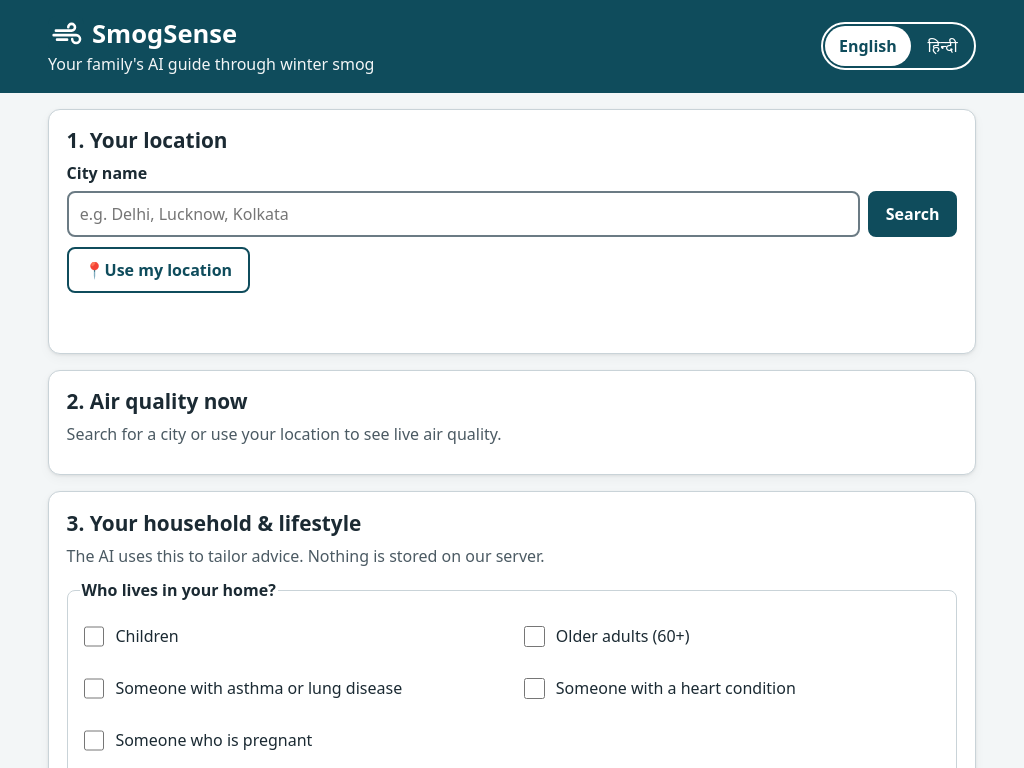
Test: App › shows plan errors (e.g. rate limiting)
This screenshot has width=1024, height=768.
Type "Delhi" into the field labelled "City name" at point(463, 214), box top-left (67, 191), bottom-right (860, 237)
Then press Enter
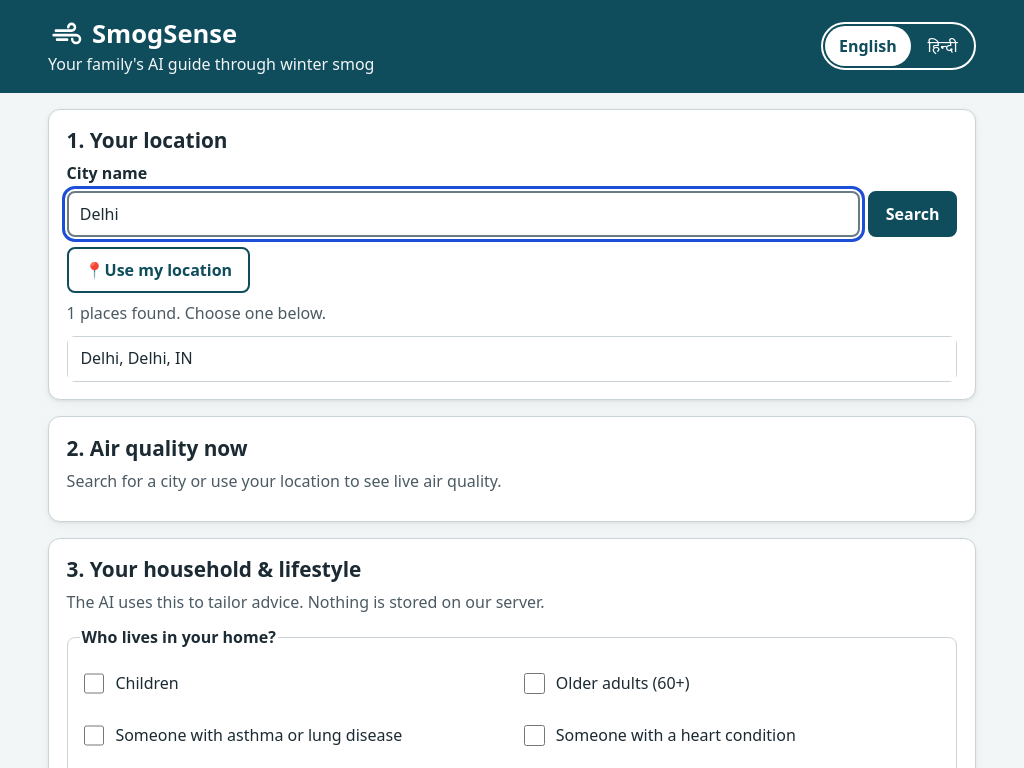
Click the button "Delhi, Delhi, IN" at point(136, 358), box top-left (68, 337), bottom-right (956, 381)
(page scrolled)
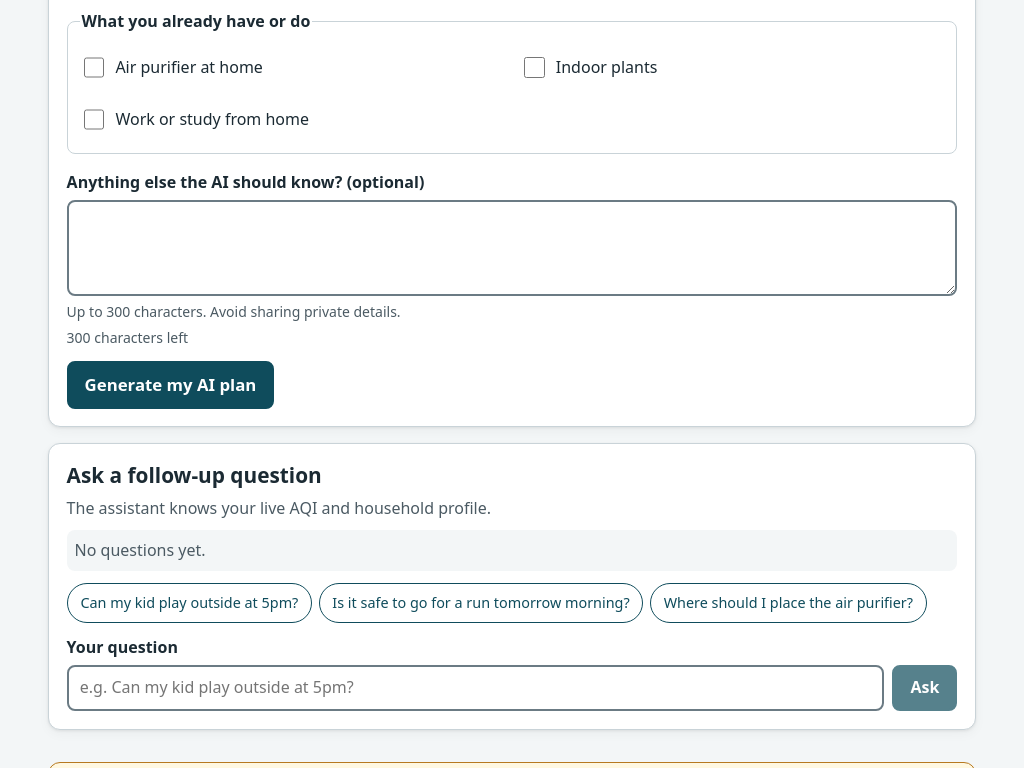
Click the button "Generate my AI plan" at point(170, 385), box top-left (67, 361), bottom-right (274, 409)
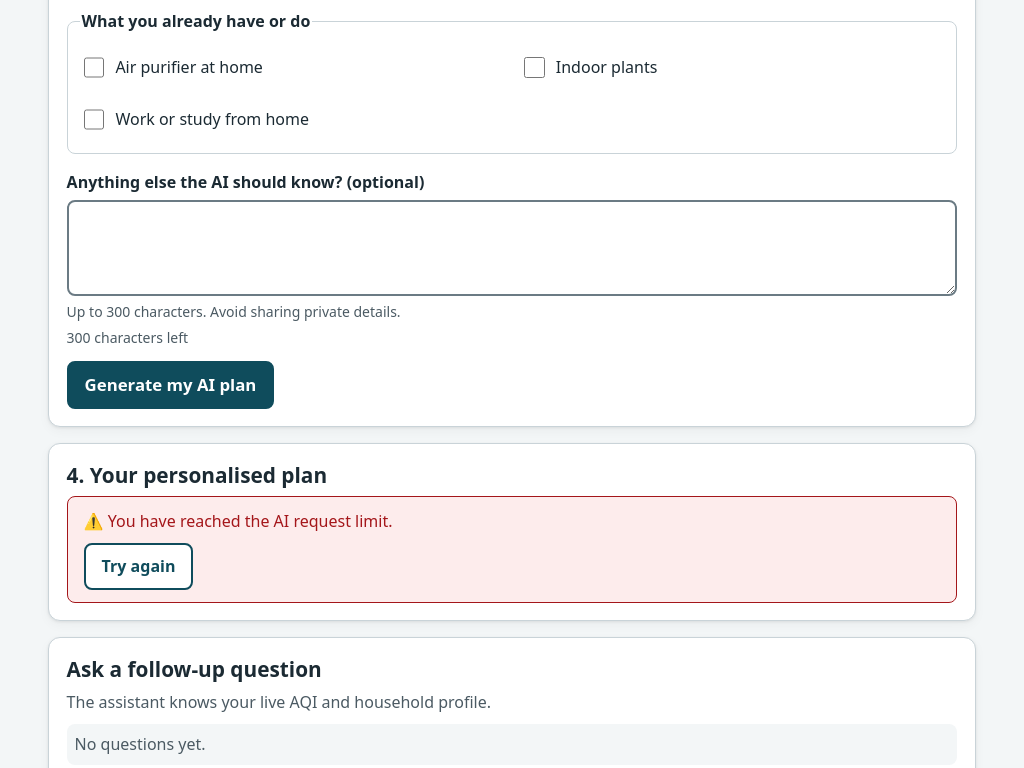
Expected: the text "You have reached the AI request limit." is shown, top-left (108, 510), bottom-right (392, 532)
